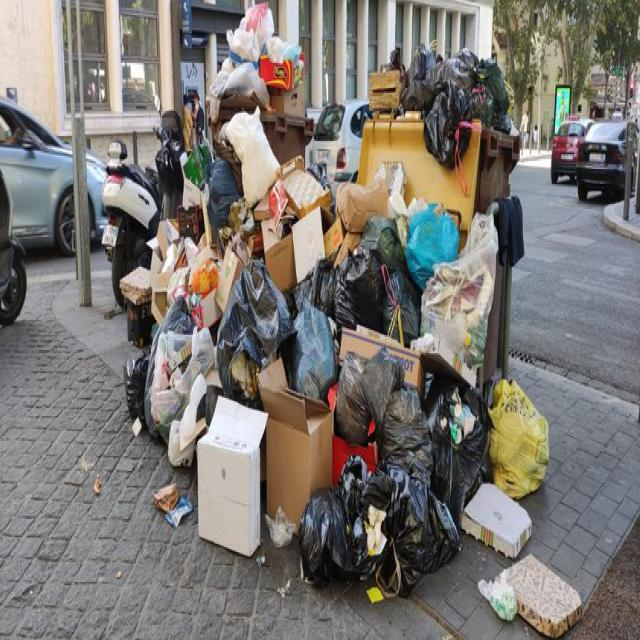Single-layer Plastic: (401, 45, 510, 168), (421, 214, 499, 384), (365, 458, 460, 596), (216, 260, 294, 408), (334, 218, 420, 343), (489, 379, 549, 498), (299, 489, 351, 586), (405, 202, 459, 288), (226, 2, 274, 62)
